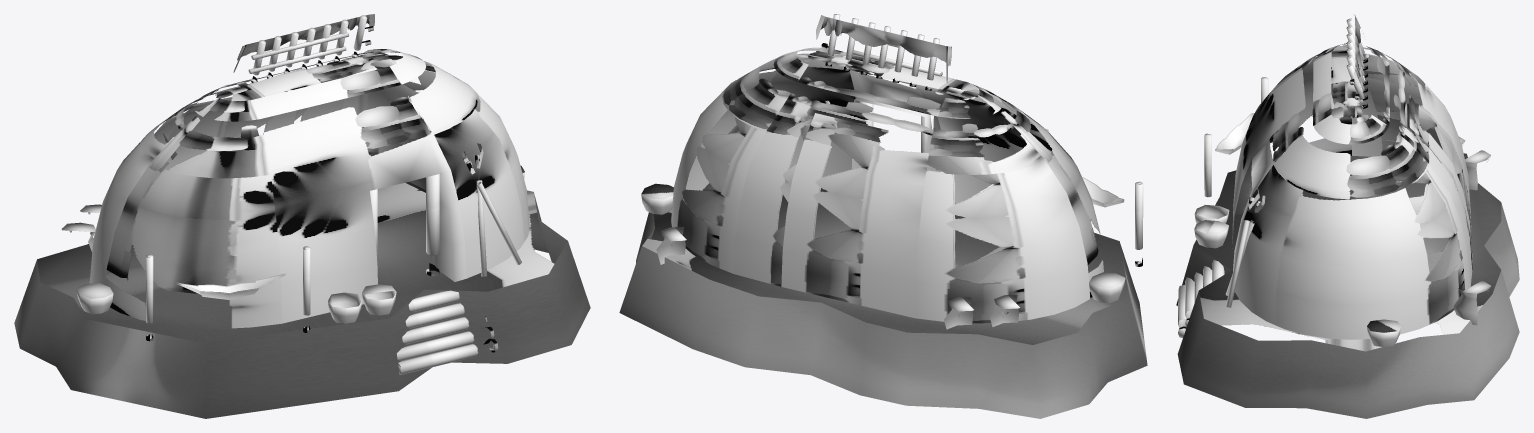
File: house_4.dae
3 views of the same model, side by side, from view 1: azimuth 30°, elevation 25°; view 2: azimuth 150°, elevation 25°; view 3: azimuth 270°, elevation 25° (orthographic). The views are drawn at different scales.
Parts seen in each view (by area): view 1: house_4; view 2: house_4; view 3: house_4.
Part boxes in pixels (x1=…): house_4: x1=14, y1=14, x2=590, y2=418; house_4: x1=619, y1=14, x2=1147, y2=418; house_4: x1=1176, y1=14, x2=1519, y2=418.
Size of the model in its own units: 27.23 by 17.69 by 15.19.
